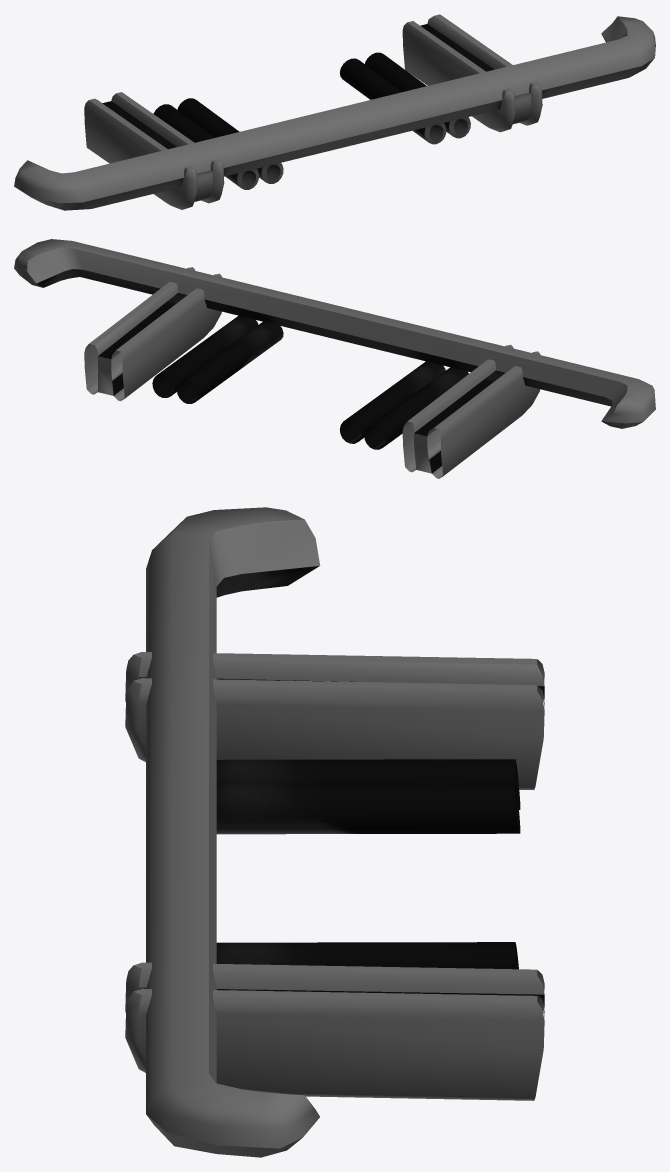
Rendered from Muscle_1_Bumper_Rear_2.fbx.
3 renders of one model, top to bottom at view 1: azimuth 30°, elevation 25°; view 2: azimuth 150°, elevation 25°; view 3: azimuth 270°, elevation 25°, orthographic. The views are drawn at different scales.
Visible parts, largest first — view 1: Muscle_1_Bumper_Rear_2; view 2: Muscle_1_Bumper_Rear_2; view 3: Muscle_1_Bumper_Rear_2.
Boxes of the visible parts, x1=… form: Muscle_1_Bumper_Rear_2: x1=14, y1=14, x2=655, y2=210; Muscle_1_Bumper_Rear_2: x1=14, y1=239, x2=655, y2=478; Muscle_1_Bumper_Rear_2: x1=125, y1=507, x2=544, y2=1157.
Bounding box in the file's own units: 165 × 15.48 × 47.5.
